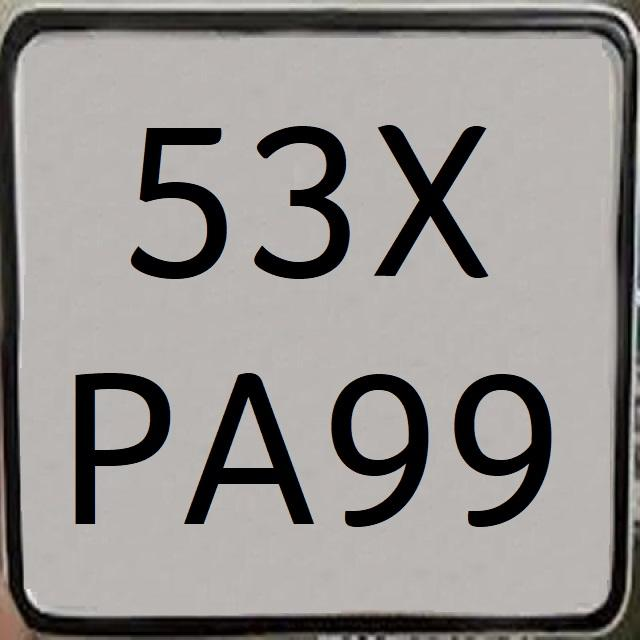3: (250, 113, 354, 290)
5: (120, 112, 234, 291)
9: (322, 347, 433, 547), (450, 357, 556, 547)
A: (180, 341, 319, 550)
P: (64, 357, 178, 542)
X: (373, 104, 498, 287)
